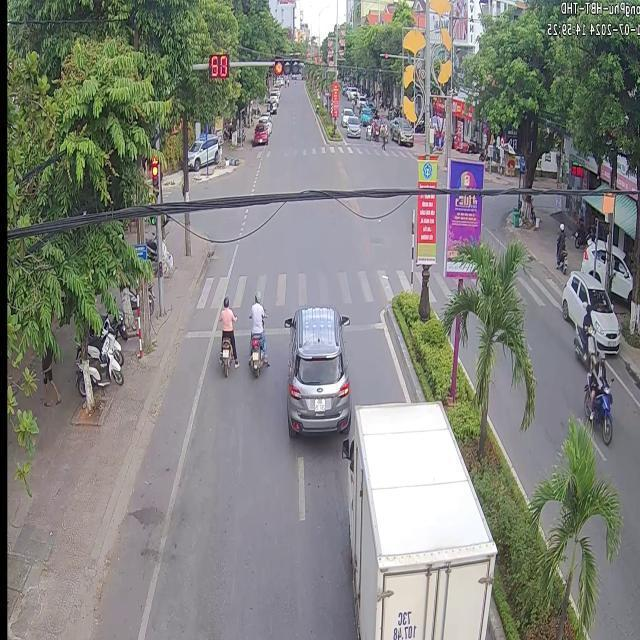car: (346, 400, 496, 638), (283, 305, 349, 440)
motobike: (244, 288, 267, 384), (218, 296, 238, 375)
red_light: (272, 54, 299, 74), (147, 154, 159, 186)
stop_line: (233, 322, 285, 335), (340, 320, 382, 330), (181, 328, 222, 336)
